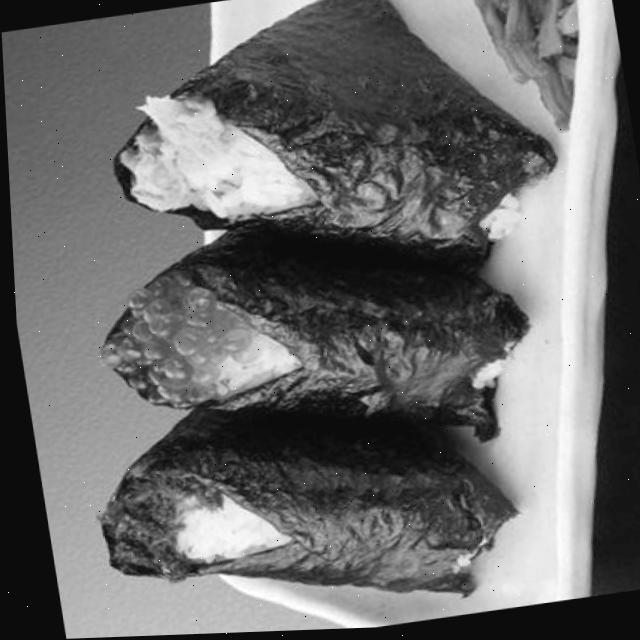米饭主食: (70, 0, 563, 305), (51, 345, 534, 639), (77, 190, 545, 444)
